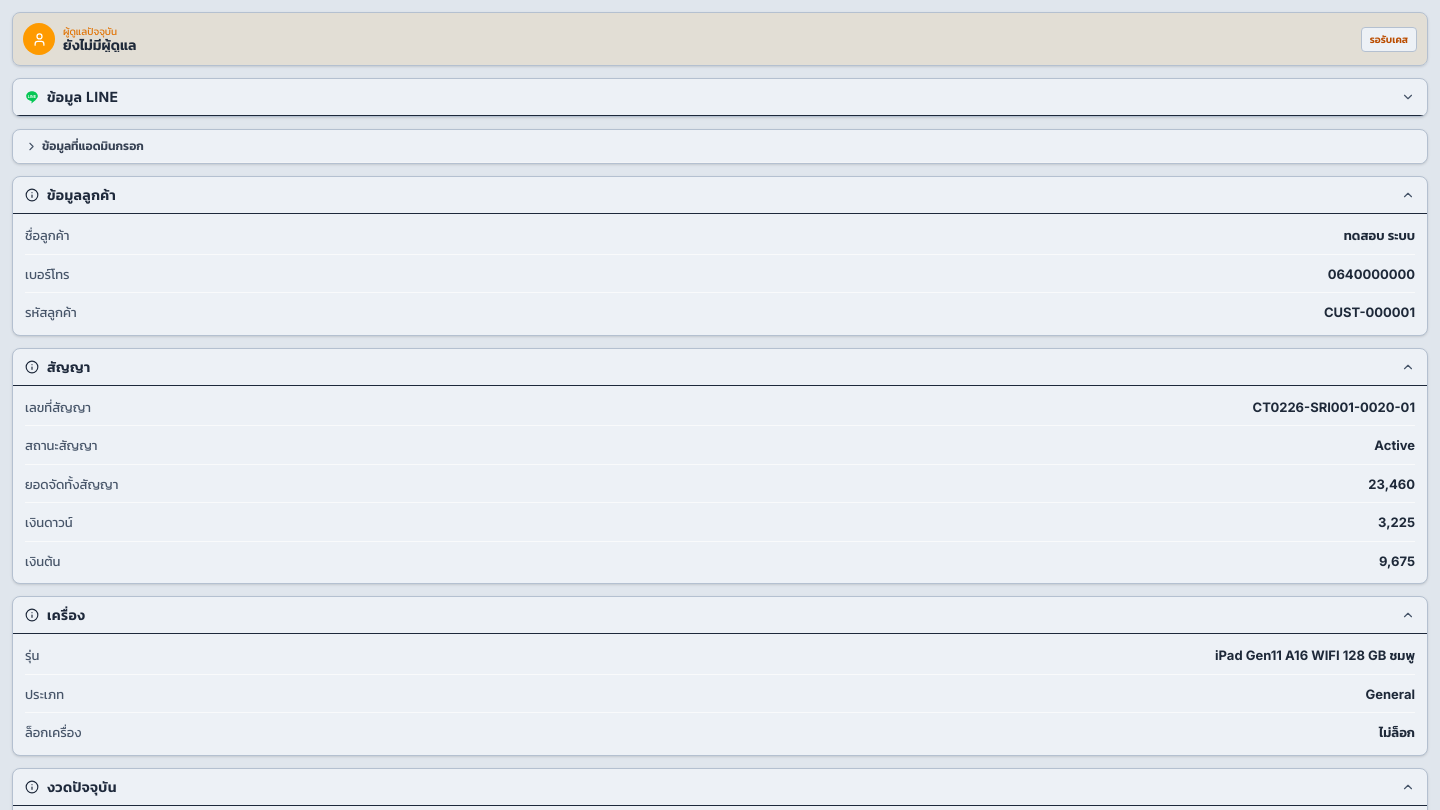
Scenario: [MEMBERDETAIL] loan — a registered customer (the partner knows them) › ⭐ TARGET — the card stays, nickname only, and says why
Click the text "ข้อมูลที่แอดมินกรอก" at (93, 146), box [42, 138, 144, 154]
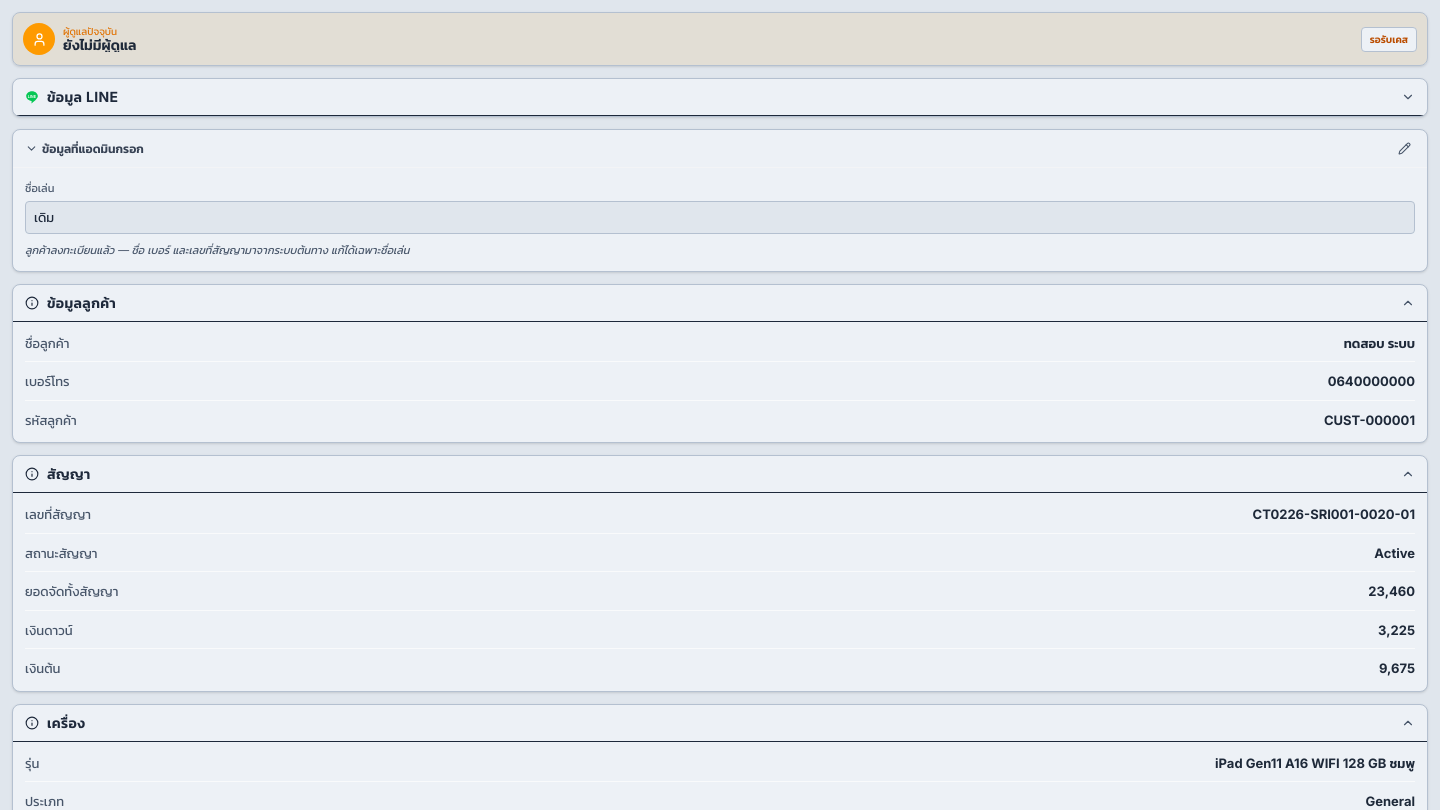
Now the text "ลูกค้าลงทะเบียนแล้ว — ชื่อ เบอร์ และเลขที่สัญญามาจากระบบต้นทาง แก้ได้เฉพาะชื่อเล่น" is shown, box [25, 243, 410, 257]
